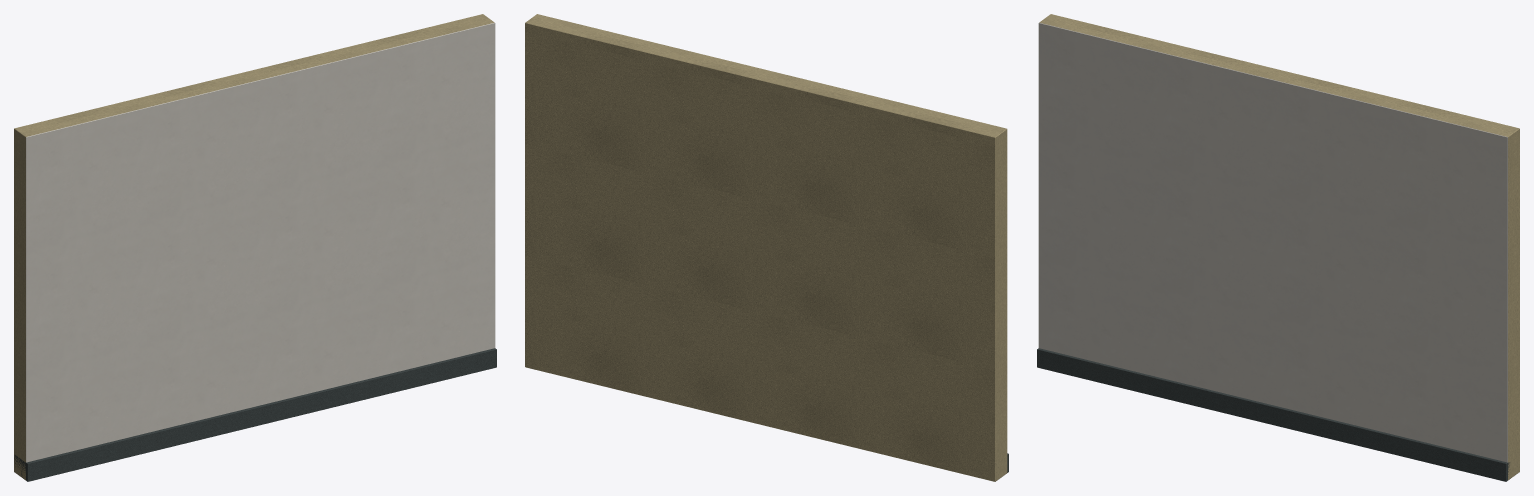
File: solid_wall_4m_013_v4.glb
3 renders of one model, left to right at view 1: azimuth 30°, elevation 25°; view 2: azimuth 150°, elevation 25°; view 3: azimuth 330°, elevation 25°, orthographic.
Visible parts, largest first — view 1: INSTANCE__solid_wall_4m__013; view 2: INSTANCE__solid_wall_4m__013; view 3: INSTANCE__solid_wall_4m__013.
Part boxes in pixels (x1,y1,x2,y2): INSTANCE__solid_wall_4m__013: (14, 14, 496, 481); INSTANCE__solid_wall_4m__013: (525, 14, 1008, 481); INSTANCE__solid_wall_4m__013: (1037, 14, 1519, 481).
Size of the model in its own units: 4 by 2.8 by 0.203.
3 materials, 3 textured.
